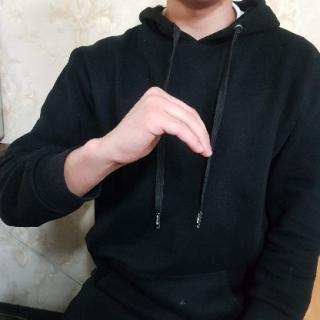HAA: (100, 86, 218, 183)
